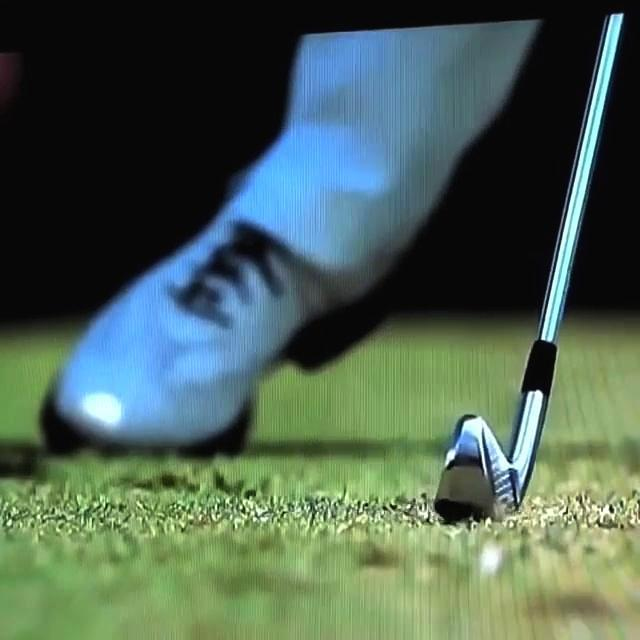ClubHead: (431, 405, 509, 533)
